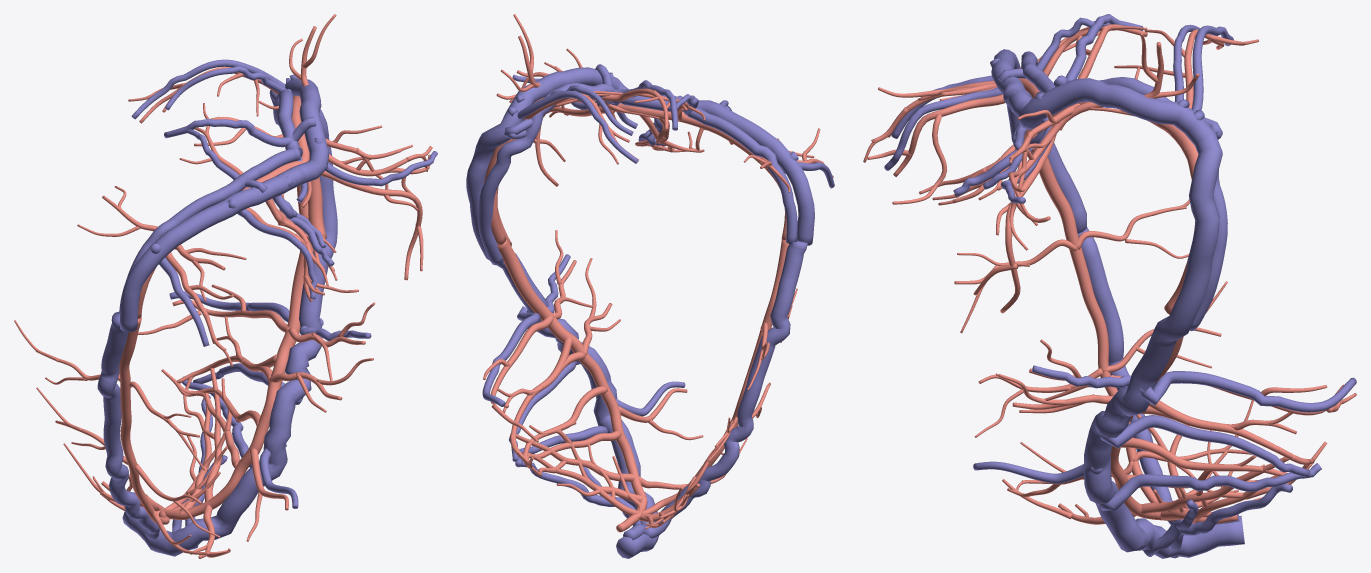
Rendered from vessels_1.glb.
The picture shows the model from 3 angles, left to right: view 1: azimuth 30°, elevation 25°; view 2: azimuth 150°, elevation 25°; view 3: azimuth 270°, elevation 25°; orthographic projection. The views are drawn at different scales.
Parts seen in each view (by area): view 1: Renderer Node; view 2: Renderer Node; view 3: Renderer Node.
Boxes of the visible parts, x1,y1,x2,y2 form: Renderer Node: (14, 14, 437, 558); Renderer Node: (466, 14, 834, 558); Renderer Node: (863, 14, 1356, 558).
Bounding box in the file's own units: 89.05 × 124 × 90.51.
